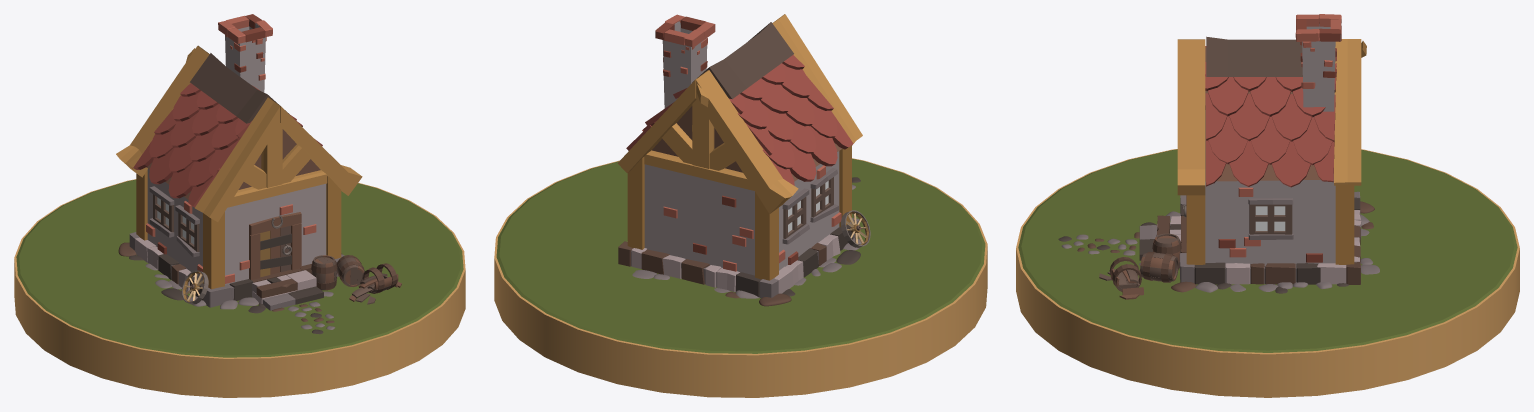
The model's file is farm.fbx.
3 views of the same model, side by side, from view 1: azimuth 30°, elevation 25°; view 2: azimuth 150°, elevation 25°; view 3: azimuth 270°, elevation 25° (orthographic). The views are drawn at different scales.
Parts seen in each view (by area): view 1: Cylinder.002, Cylinder.009, Cube.168, Cube.217, Cube.179, Cube.177, Cube.178, Cube.210, Cube.214, Cube.176, Cube.209, Cube.192 (+15 smaller); view 2: Cylinder.002, Cylinder.009, Cube.217, Cube.168, Cube.178, Cube.177, Cube.179, Cube.214, Cube.208, Cube.207, Cube.172, Cube.192 (+8 smaller); view 3: Cylinder.002, Cylinder.009, Cube.168, Cube.217, Cube.179, Cube.178, Cube.177, Cube.214, Cube.207, Cube.209, Cube.192, Cylinder.003 (+8 smaller).
Boxes of the visible parts, x1=… form: Cylinder.002: x1=16, y1=179, x2=463, y2=357; Cylinder.009: x1=14, y1=179, x2=465, y2=397; Cube.168: x1=132, y1=83, x2=322, y2=207; Cube.217: x1=147, y1=169, x2=326, y2=284; Cube.179: x1=195, y1=97, x2=362, y2=221; Cube.177: x1=190, y1=53, x2=289, y2=123; Cube.178: x1=116, y1=45, x2=209, y2=177; Cube.210: x1=203, y1=212, x2=224, y2=289; Cube.214: x1=225, y1=23, x2=265, y2=92; Cube.176: x1=227, y1=170, x2=327, y2=207; Cube.209: x1=326, y1=176, x2=341, y2=258; Cube.192: x1=153, y1=194, x2=199, y2=251; Cylinder.002: x1=496, y1=158, x2=985, y2=353; Cylinder.009: x1=494, y1=158, x2=987, y2=397; Cube.217: x1=644, y1=151, x2=839, y2=275; Cube.168: x1=626, y1=55, x2=853, y2=185; Cube.178: x1=617, y1=70, x2=798, y2=213; Cube.177: x1=692, y1=22, x2=793, y2=99; Cube.179: x1=772, y1=14, x2=862, y2=149; Cube.214: x1=655, y1=21, x2=707, y2=108; Cube.208: x1=755, y1=192, x2=778, y2=280; Cube.207: x1=627, y1=157, x2=644, y2=249; Cube.172: x1=644, y1=150, x2=754, y2=190; Cube.192: x1=783, y1=177, x2=833, y2=238; Cylinder.002: x1=1018, y1=149, x2=1517, y2=352; Cylinder.009: x1=1016, y1=149, x2=1519, y2=397; Cube.168: x1=1205, y1=46, x2=1336, y2=187; Cube.217: x1=1205, y1=180, x2=1335, y2=264; Cube.179: x1=1177, y1=39, x2=1205, y2=195; Cube.178: x1=1334, y1=39, x2=1366, y2=185; Cube.177: x1=1206, y1=36, x2=1302, y2=76; Cube.214: x1=1302, y1=24, x2=1340, y2=117; Cube.207: x1=1335, y1=184, x2=1354, y2=264; Cube.209: x1=1186, y1=195, x2=1205, y2=264; Cube.192: x1=1249, y1=204, x2=1292, y2=234; Cylinder.003: x1=1099, y1=257, x2=1143, y2=299.
Size of the model in its own units: 314 by 195 by 314.
